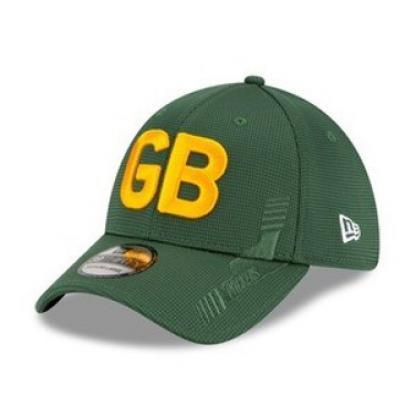cap: (30, 67, 386, 349)
